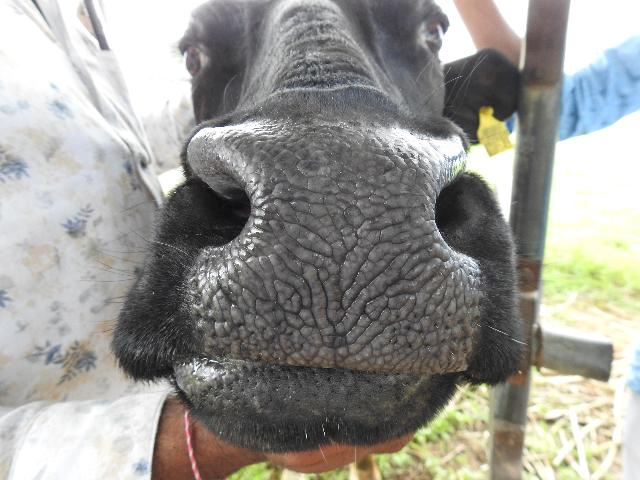Muzzle: (226, 136, 432, 370)
